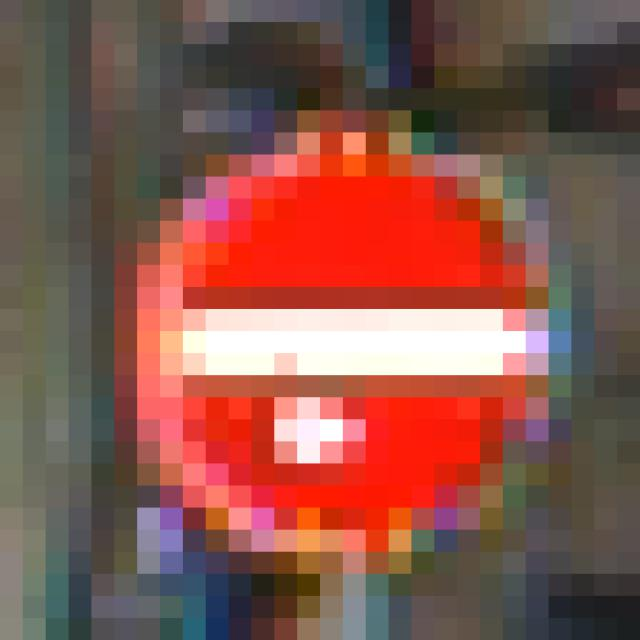No Entry: (138, 134, 527, 531)
